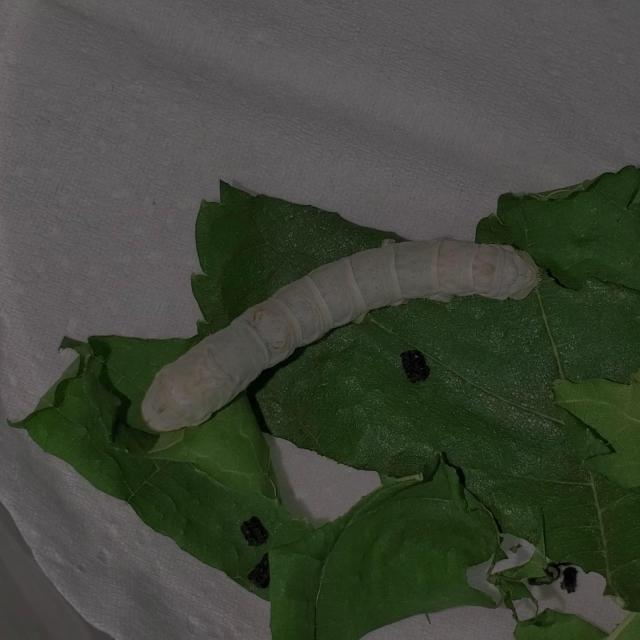Healthy: (104, 215, 547, 455)
